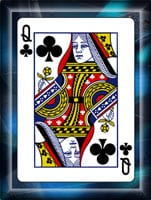queen of clubs: (17, 17, 136, 182)
